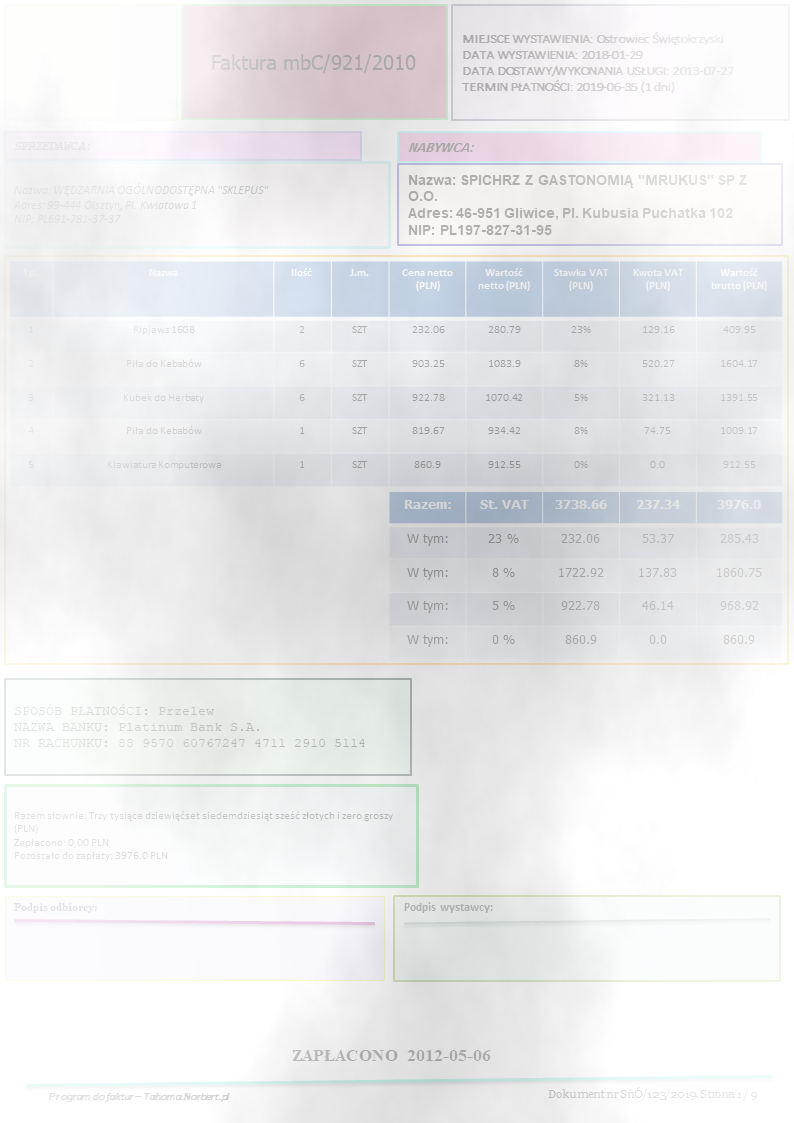Table: (7, 259, 785, 490), (388, 491, 786, 660)
TextBox: (402, 168, 752, 242), (10, 807, 397, 865), (11, 699, 368, 755), (457, 29, 738, 98), (10, 177, 274, 229), (200, 43, 419, 79), (543, 1084, 761, 1107), (288, 1045, 497, 1068), (44, 1084, 236, 1105), (10, 896, 100, 918), (399, 898, 498, 918), (404, 134, 476, 159), (8, 135, 91, 155)
